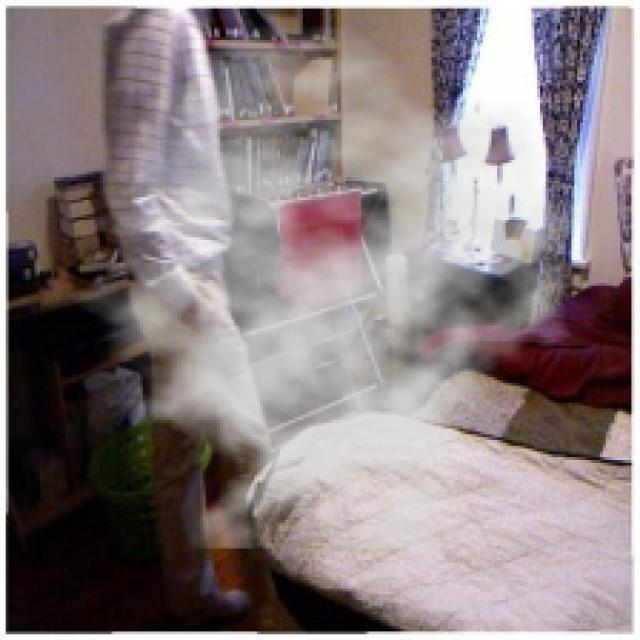Smoke: (46, 22, 594, 548)
